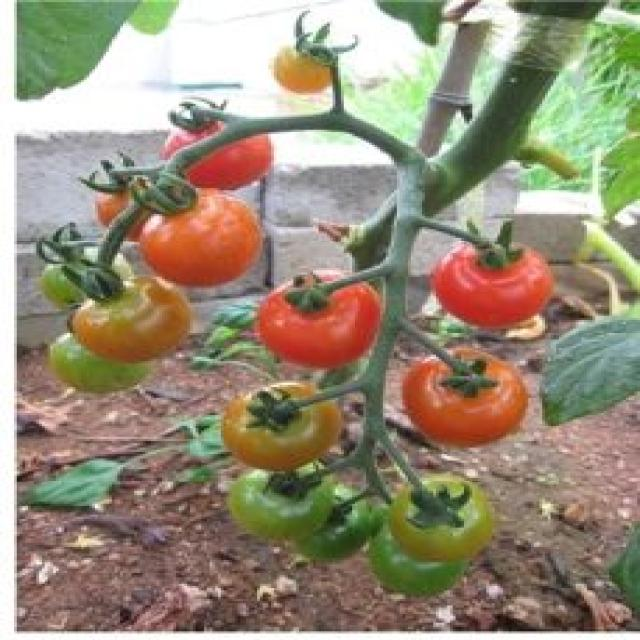level 1: (350, 522, 468, 606), (282, 469, 373, 569)
level 2: (41, 327, 176, 413), (216, 454, 334, 544), (34, 235, 134, 322)
level 3: (377, 472, 508, 564)
level 4: (219, 384, 353, 472), (66, 274, 191, 366)
level 5: (396, 345, 543, 453), (136, 182, 262, 296), (84, 157, 178, 246), (249, 41, 354, 97)
level 6: (250, 264, 391, 364), (434, 232, 582, 321), (155, 100, 290, 192)
